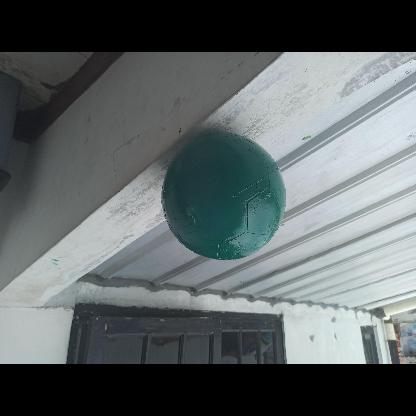green_ball: (162, 131, 292, 261)
